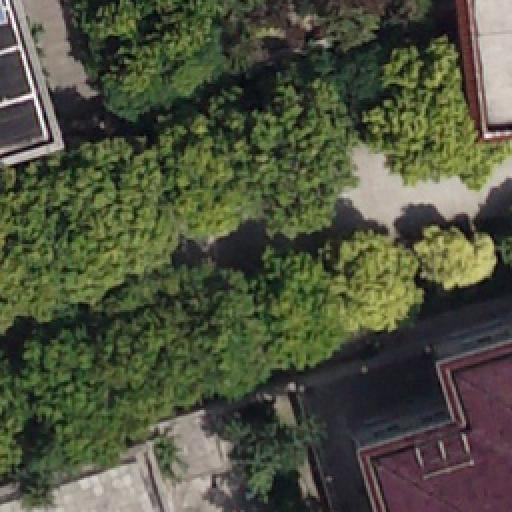solar-panel: (0, 0, 12, 28)
